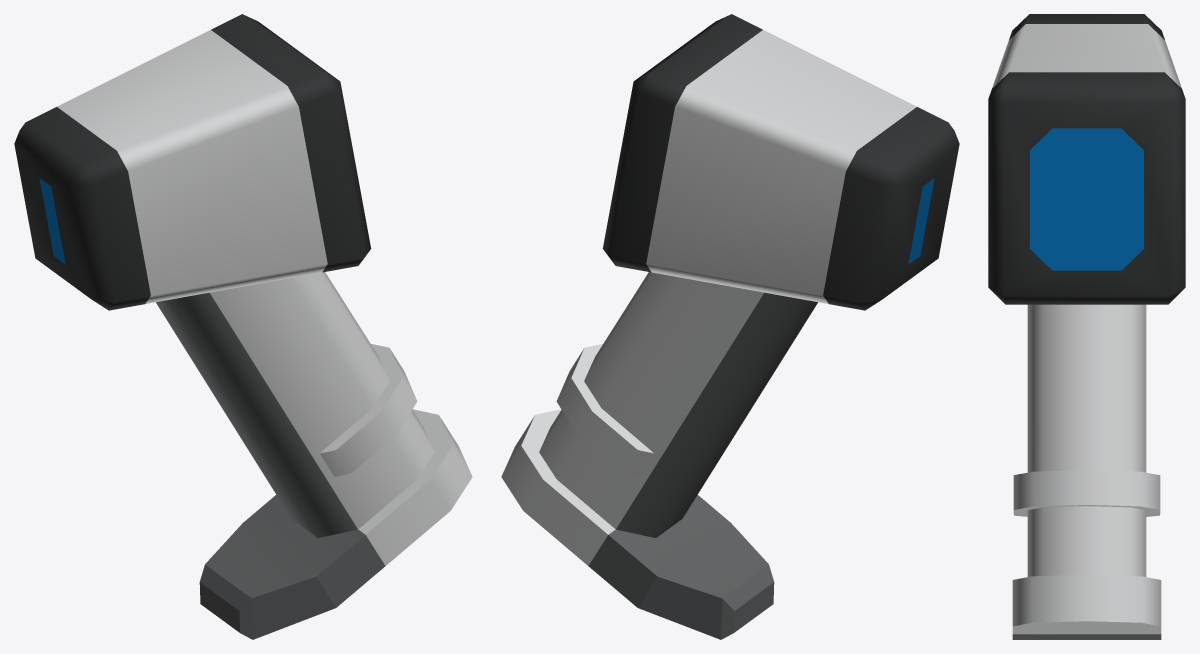
Rendered from Scaner_001.fbx.
3 views of the same model, side by side, from view 1: azimuth 30°, elevation 25°; view 2: azimuth 150°, elevation 25°; view 3: azimuth 270°, elevation 25° (orthographic).
Visible parts, largest first — view 1: Scaner_001; view 2: Scaner_001; view 3: Scaner_001.
Boxes of the visible parts, x1,y1,x2,y2 form: Scaner_001: [14, 14, 472, 639]; Scaner_001: [501, 14, 959, 639]; Scaner_001: [988, 14, 1185, 639].
Size of the model in its own units: 19.72 by 7.98 by 25.62.
